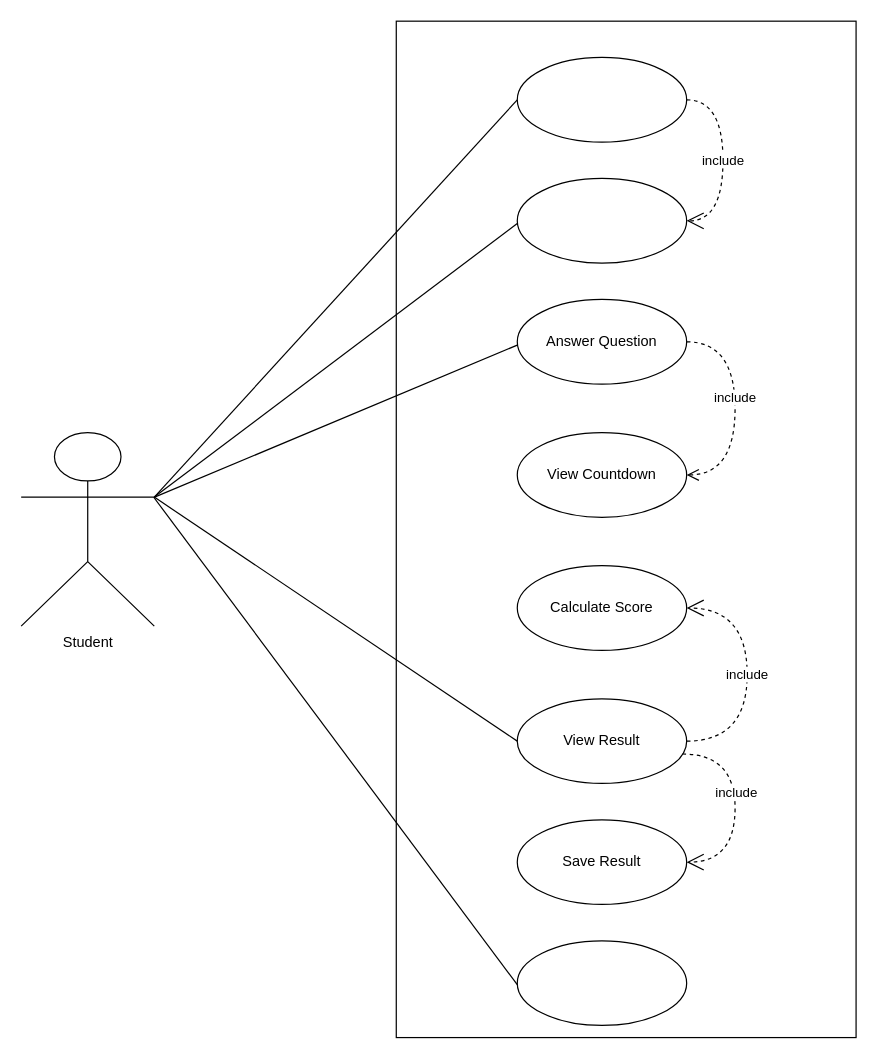
Some shapes in this 877 by 1059 pixel diagram are drawn without their labels. Here are the shapes that lost their labels. From the top down, the centre of each, then its label:
At point 601,99: "Start Quiz".
At point 601,220: "Select Difficulty".
At point 601,982: "View Previous Results".
